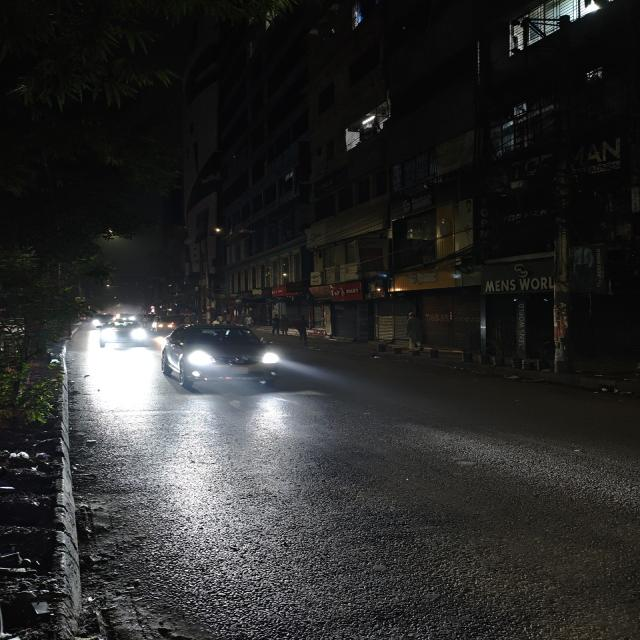car: (155, 322, 282, 398), (96, 318, 151, 354), (89, 312, 115, 330)
cng: (151, 314, 176, 332)
